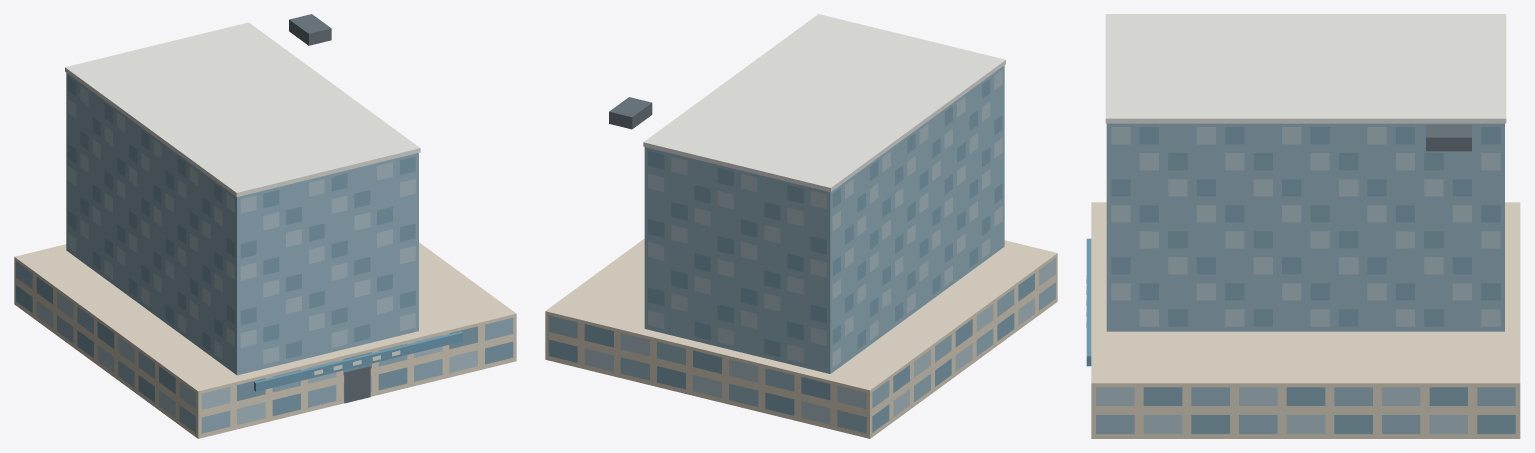
File: sky-building-1.glb
3 renders of one model, left to right at view 1: azimuth 30°, elevation 25°; view 2: azimuth 150°, elevation 25°; view 3: azimuth 270°, elevation 25°, orthographic. The views are drawn at different scales.
Bounding box in the file's own units: 14.02 × 10 × 14.18.
